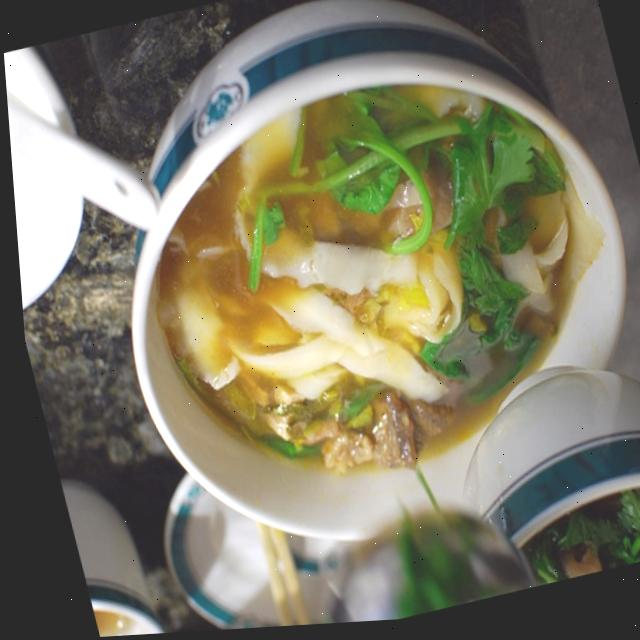面条主食: (64, 0, 640, 567)
